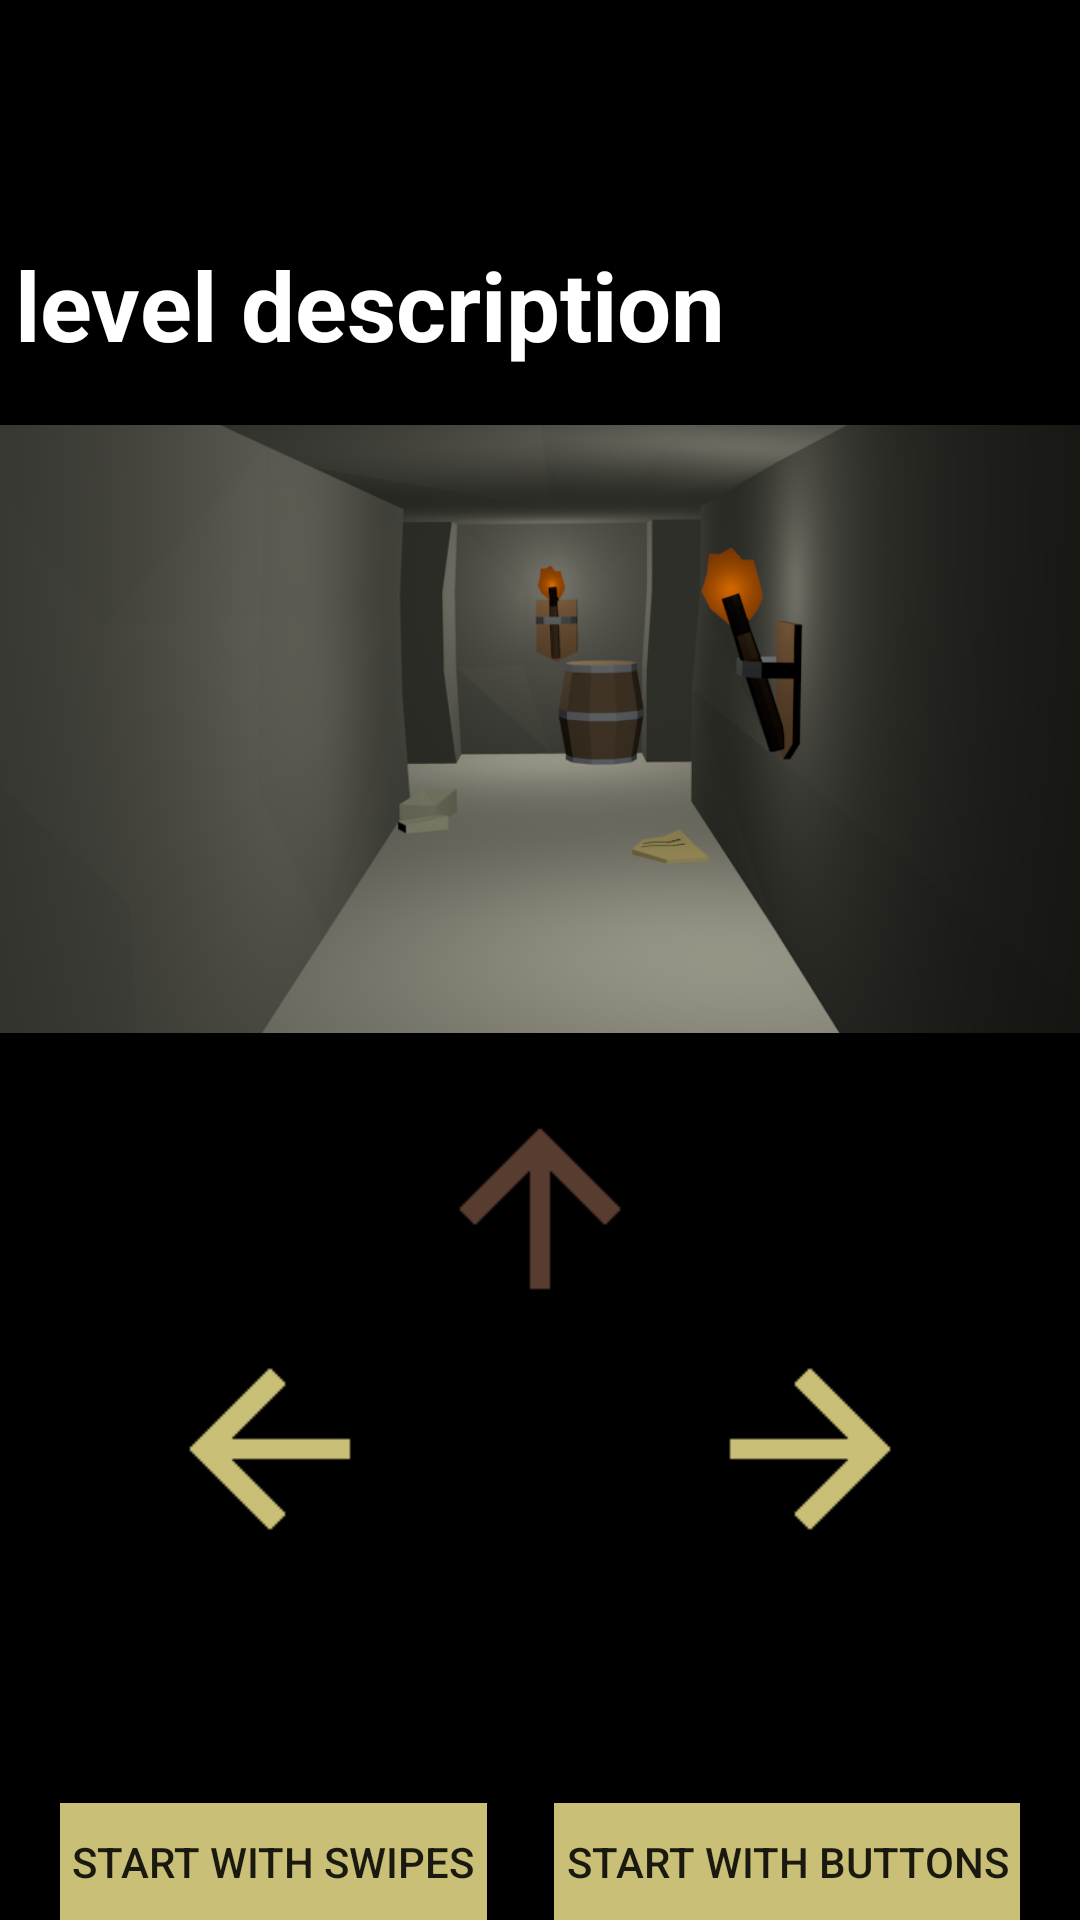

Named icons in this screenshot (1080px×1920px) and their bounding boxes, (x1, y1, x2, y2):
left: (189, 1368, 351, 1530)
right: (729, 1368, 891, 1530)
